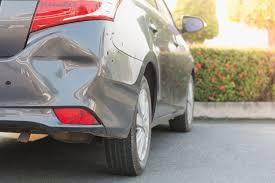dent: (17, 29, 106, 113)
